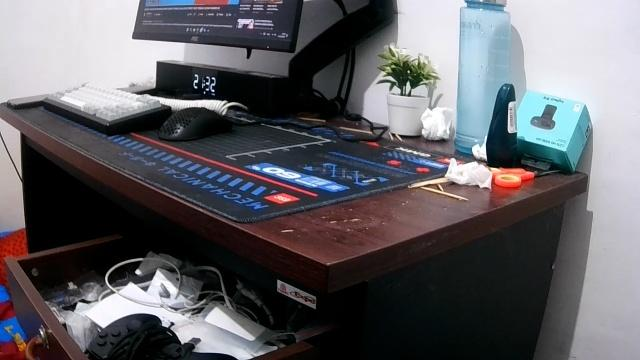Meja: (0, 81, 588, 359)
